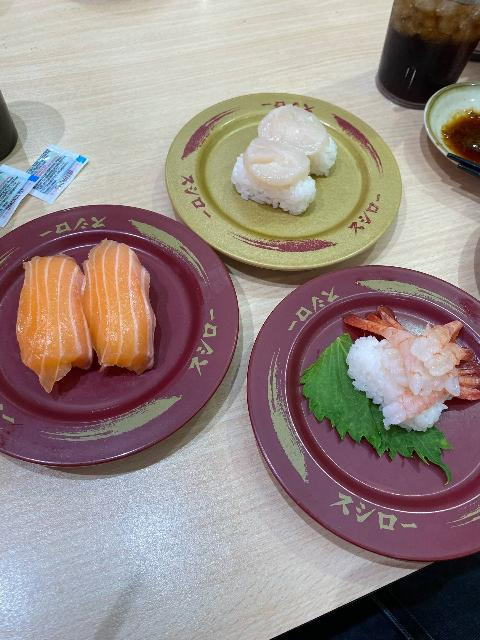jangold: (163, 100, 414, 252)
janred: (221, 273, 480, 541), (4, 207, 230, 439)
